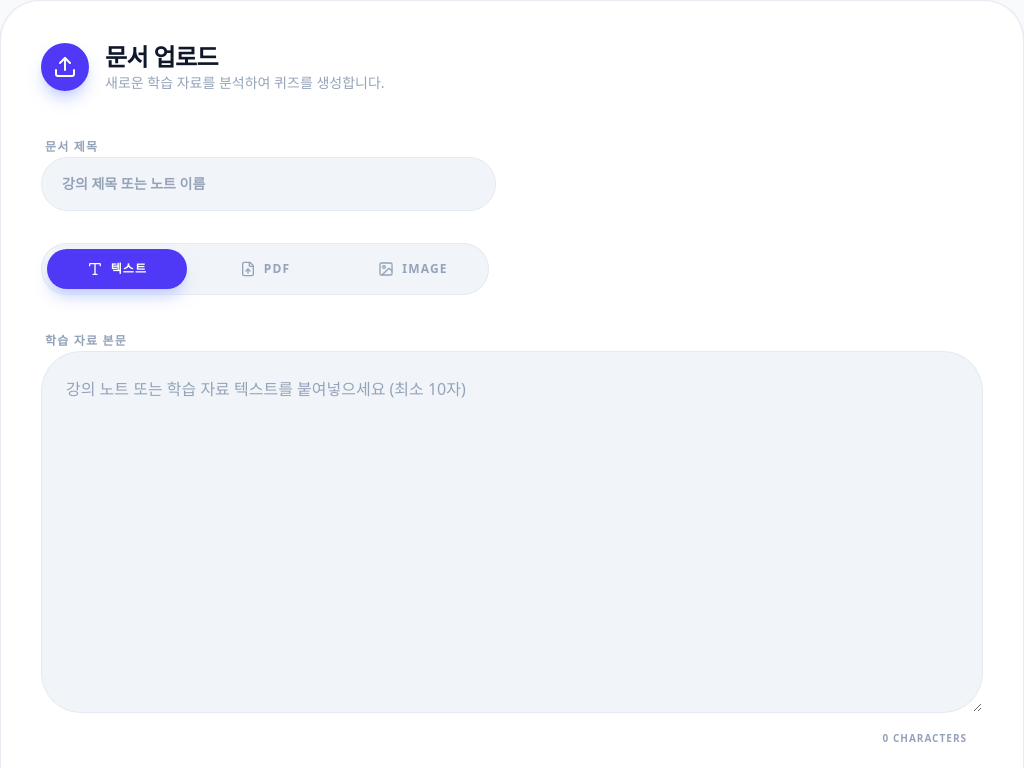
Test: DocumentUploadForm › enables submit when both fields are valid
The width and height of the screenshot is (1024, 768).
Type "Title" into the field labelled "문서 제목".
click(268, 184); type("Title")  # box [41,157,496,211]
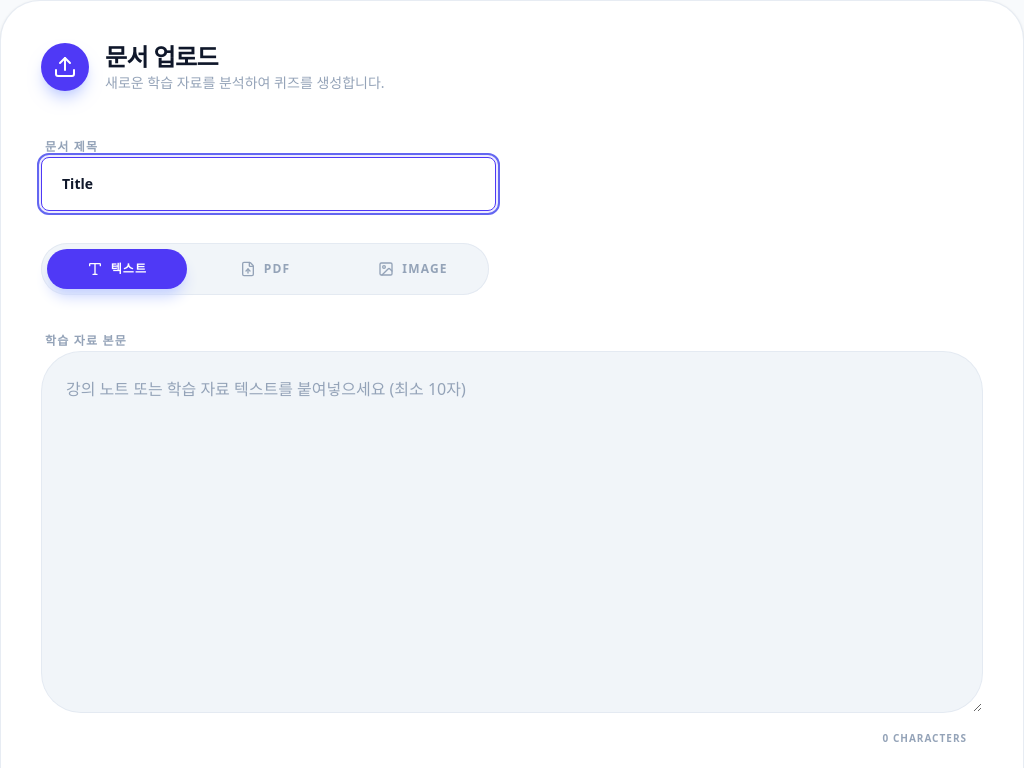
Type "This is definitely longer than ten characters." into the text box labelled "학습 자료 본문".
click(512, 532); type("This is definitely longer than ten characters.")  # box [41,351,983,713]
(page scrolled)
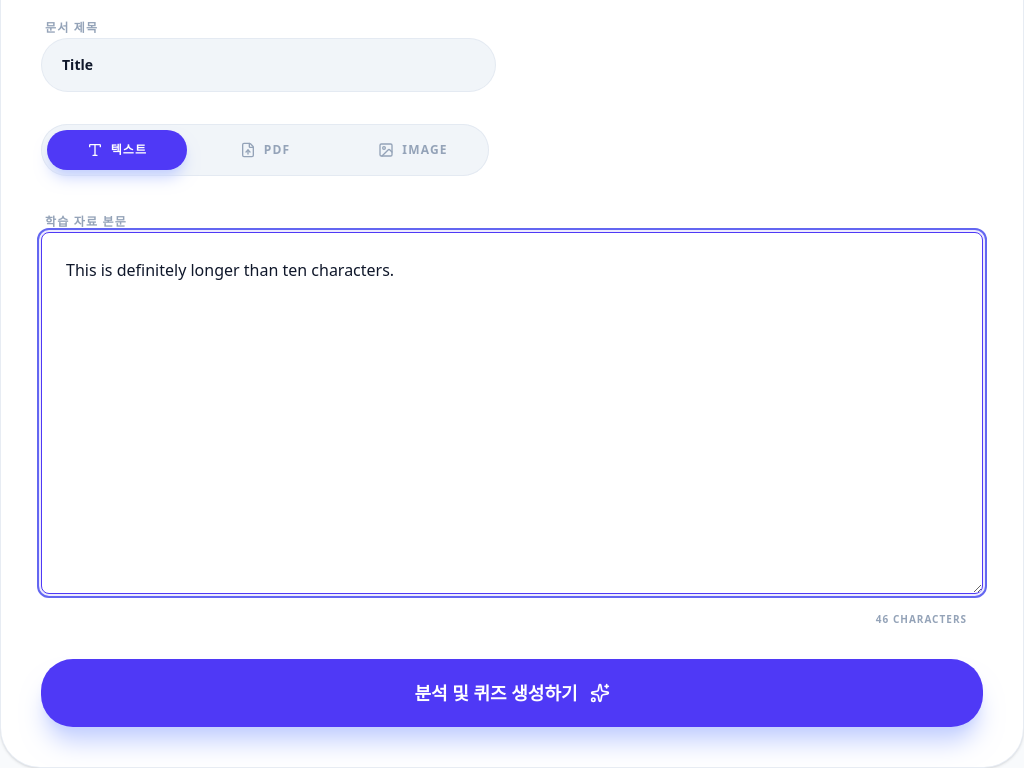
Result: the button "분석 및 퀴즈 생성하기" is enabled at [41,659,983,727]
